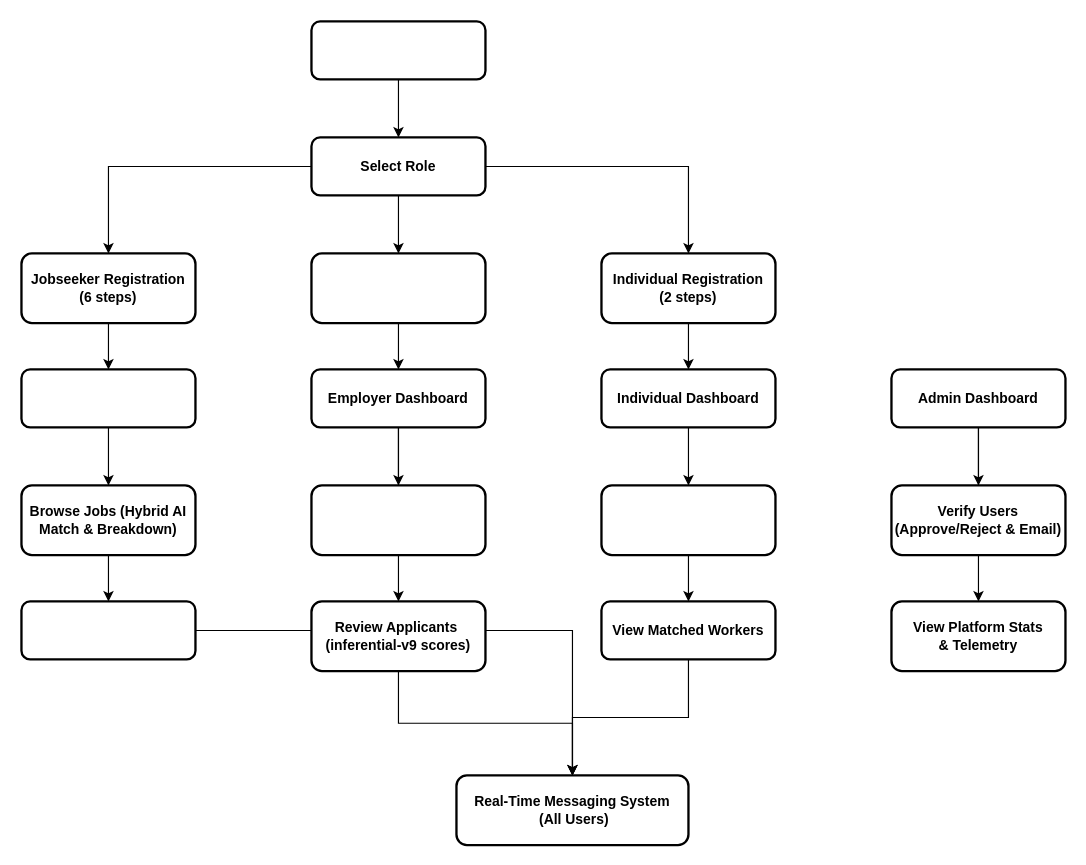
Image size: 1086x865. Some labels were removed from this diagram. Here are the shapes that lost their labels. From the top down, the centre of each, then its label:
At point (398, 50): "Landing Page Login / Register".
At point (398, 288): "Employer Registration (4 steps)".
At point (108, 398): "Jobseeker Dashboard".
At point (398, 520): "Post Job (AI Skill Recs)".
At point (688, 520): "Diagnostic Search (Service Needs)".
At point (108, 630): "Apply to Job".
